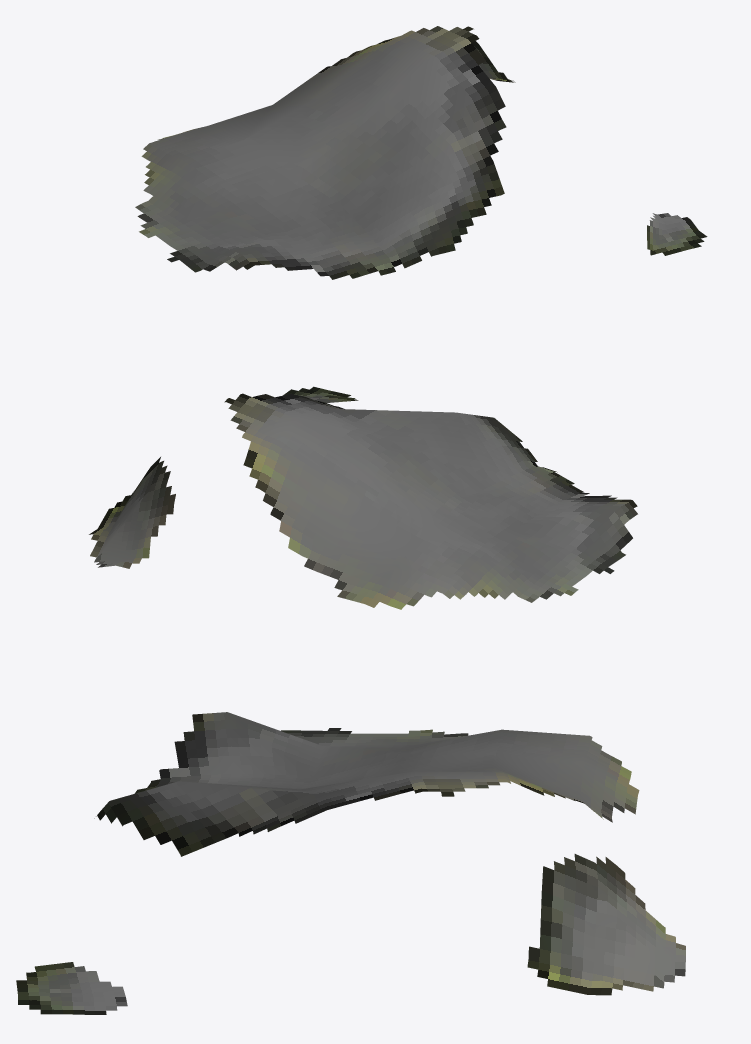
Rendered from Rubblepile1.fbx.
3 renders of one model, top to bottom at view 1: azimuth 30°, elevation 25°; view 2: azimuth 150°, elevation 25°; view 3: azimuth 270°, elevation 25°, orthographic. The views are drawn at different scales.
Visible parts, largest first — view 1: Rubble; view 2: Rubble; view 3: Rubble.
Part boxes in pixels (<box>): Rubble: <box>135,26,707,279</box>; Rubble: <box>89,386,637,609</box>; Rubble: <box>16,712,685,1014</box>.
Bounding box in the file's own units: 1701 × 427 × 1697.
